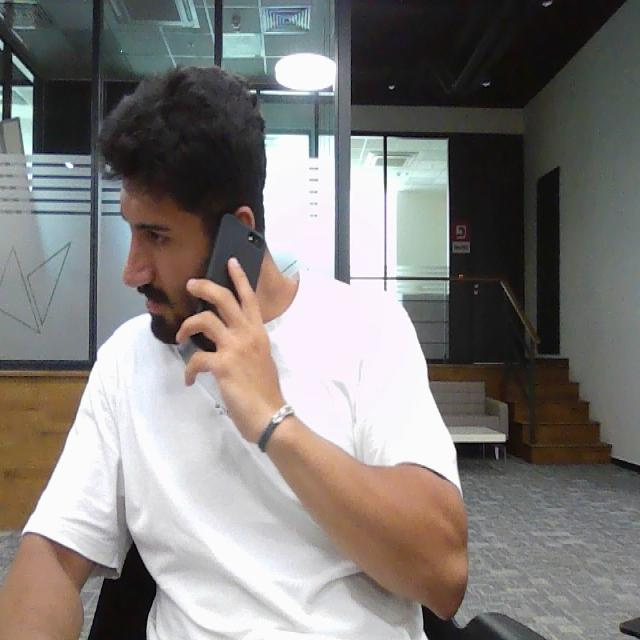phone: (189, 210, 268, 354)
